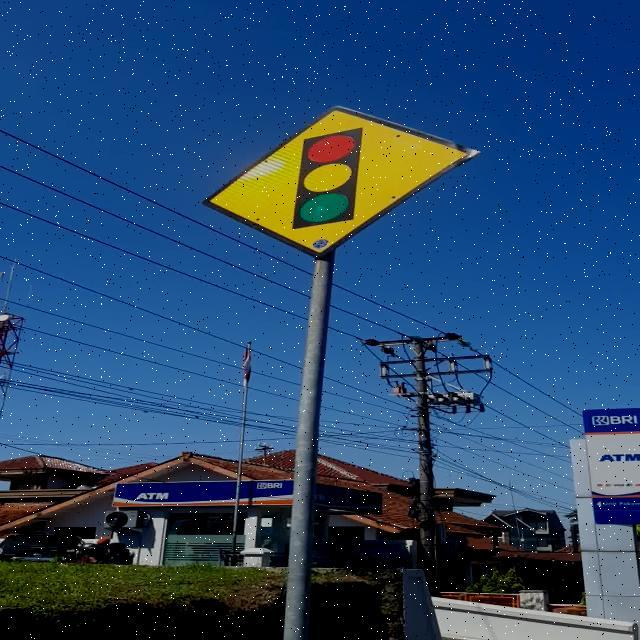Lampu Lalu Lintas: (202, 105, 482, 259)
